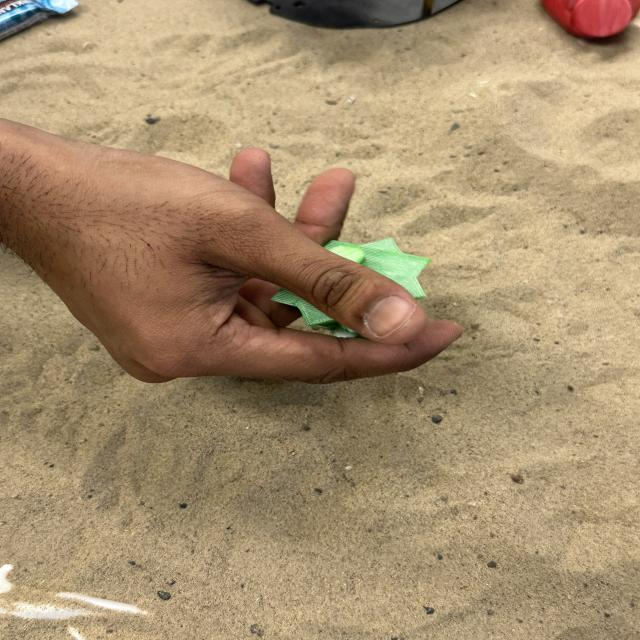fire: (538, 0, 638, 41)
tree: (269, 235, 433, 340)
